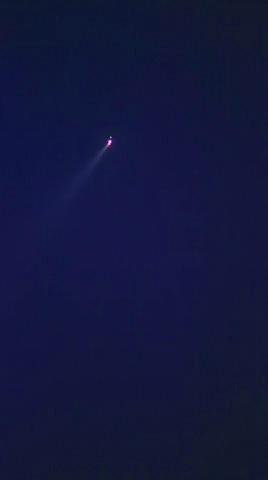Plane: (77, 123, 122, 186)
